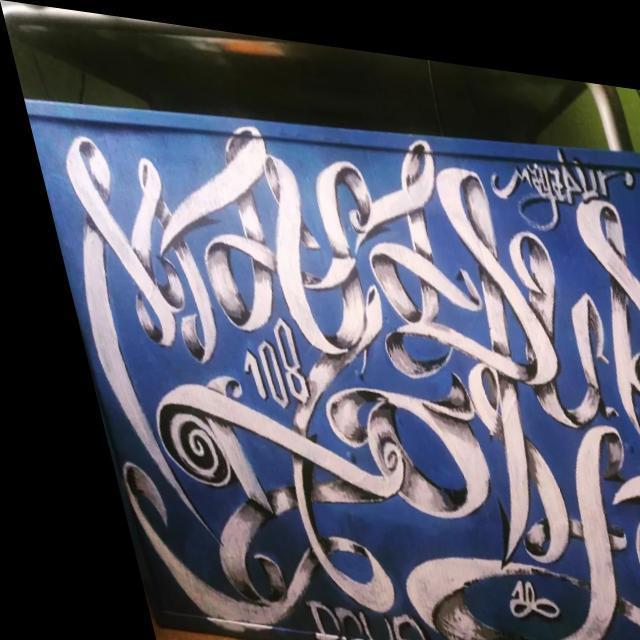-: (34, 102, 640, 640), (211, 312, 305, 409), (270, 581, 412, 640), (499, 138, 617, 194), (470, 560, 540, 620)
